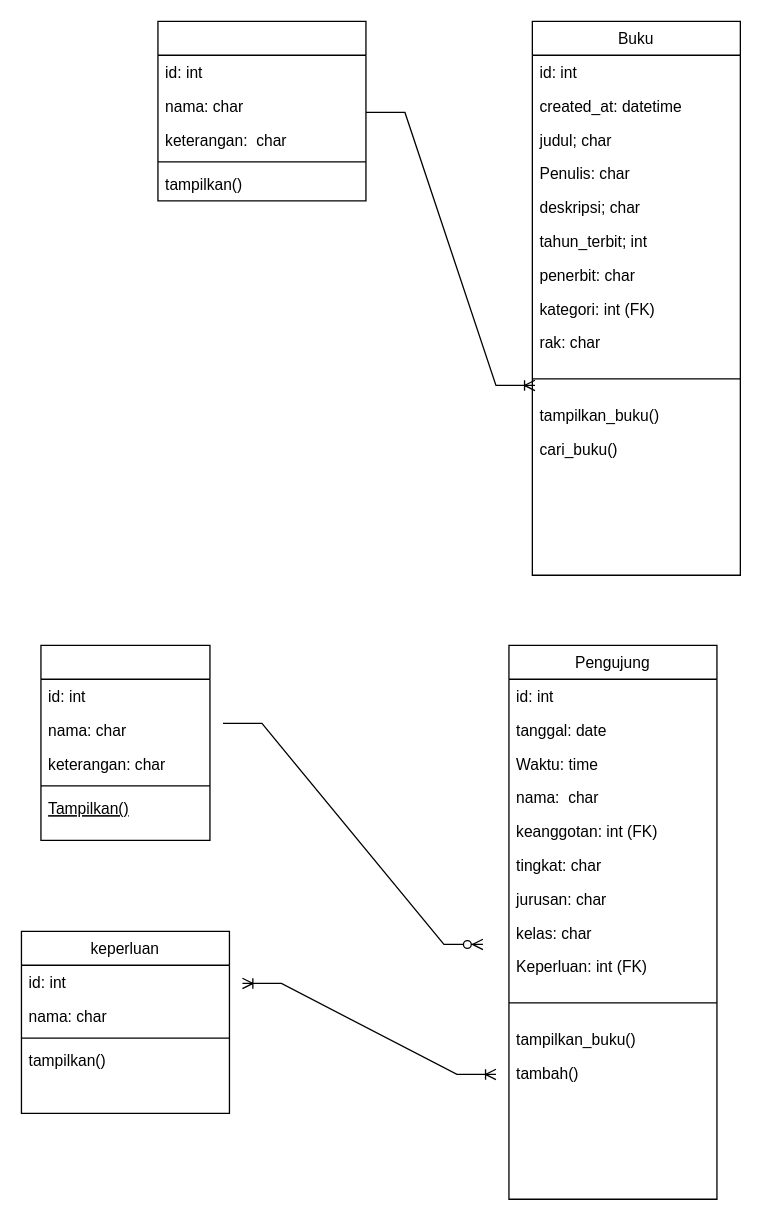
This 762x1221 diagram has some shape labels left out. Each missing label, with the box of its shape:
kategori_buku: (157, 20, 366, 201)
keangggotaan: (40, 644, 210, 840)
